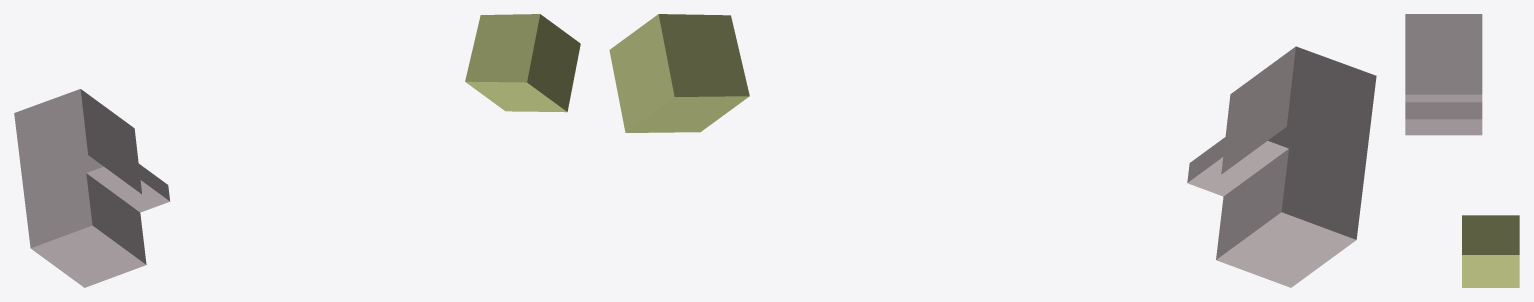
3 renders of one model, left to right at view 1: azimuth 30°, elevation 25°; view 2: azimuth 150°, elevation 25°; view 3: azimuth 270°, elevation 25°, orthographic. The views are drawn at different scales.
Visible parts, largest first — view 1: 0_3_1_3_0_0_0; view 2: 0_3_1_3_0_0_0; view 3: 0_3_1_3_0_0_0.
Boxes of the visible parts, x1,y1,x2,y2 form: 0_3_1_3_0_0_0: [14, 14, 580, 287]; 0_3_1_3_0_0_0: [609, 14, 1376, 287]; 0_3_1_3_0_0_0: [1405, 14, 1519, 287].
Bounding box in the file's own units: 70.81 × 18.06 × 17.8.
